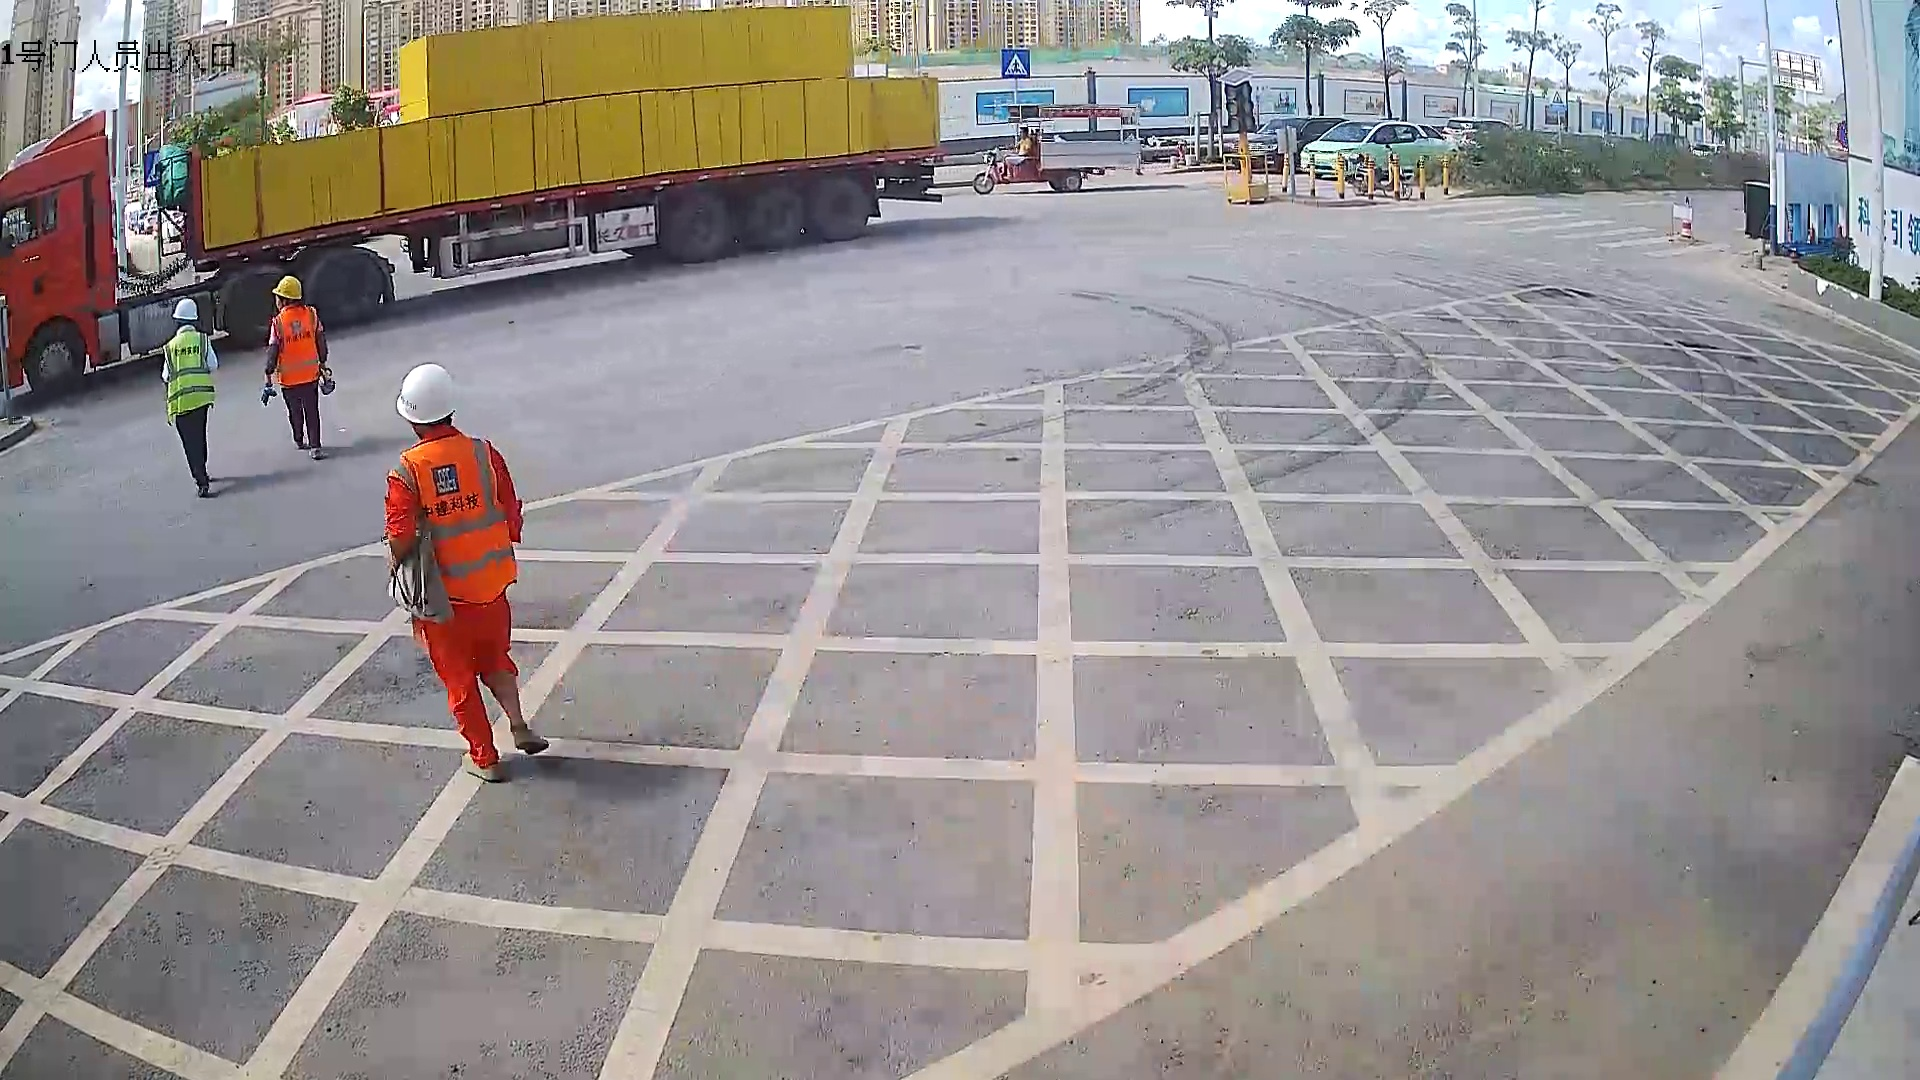person: (383, 361, 553, 784), (259, 272, 336, 460), (159, 296, 219, 500)
reflective_vest: (386, 432, 520, 606), (162, 329, 215, 424), (271, 304, 321, 387)
safety_helmet: (394, 362, 461, 440), (272, 272, 306, 313), (171, 296, 200, 331)
